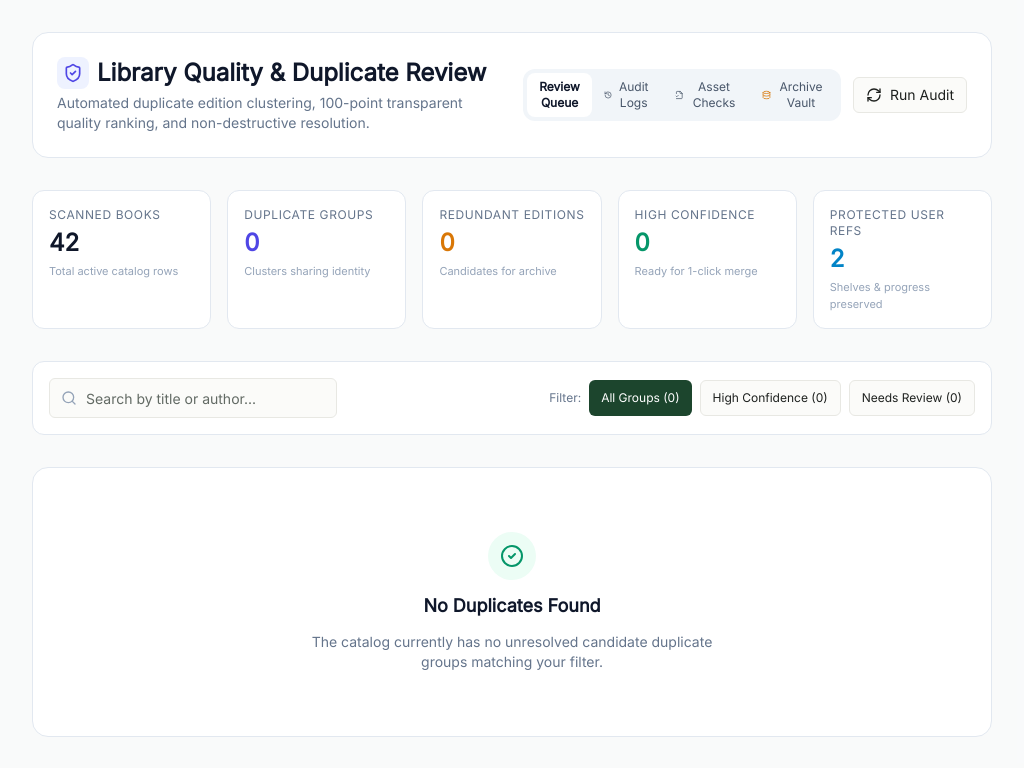
AdminLibraryQuality › renders and interacts with the Audit Logs tab
Later steps or results of the test are not shown.
Click the button "Audit Logs" at [628, 95], box [592, 73, 663, 117]
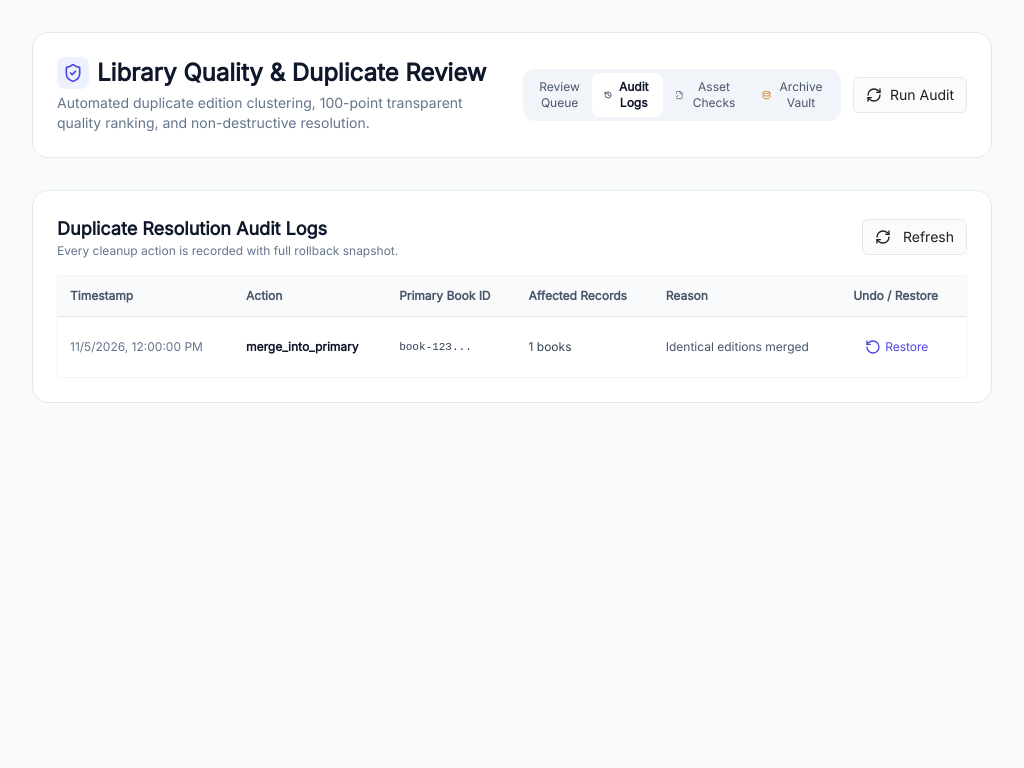
Check: the heading "Duplicate Resolution Audit Logs" is shown, box [57, 218, 327, 239]
Check: the text "merge_into_primary" is shown, box [234, 316, 387, 378]
Check: the text "Identical editions merged" is shown, box [654, 316, 841, 378]
